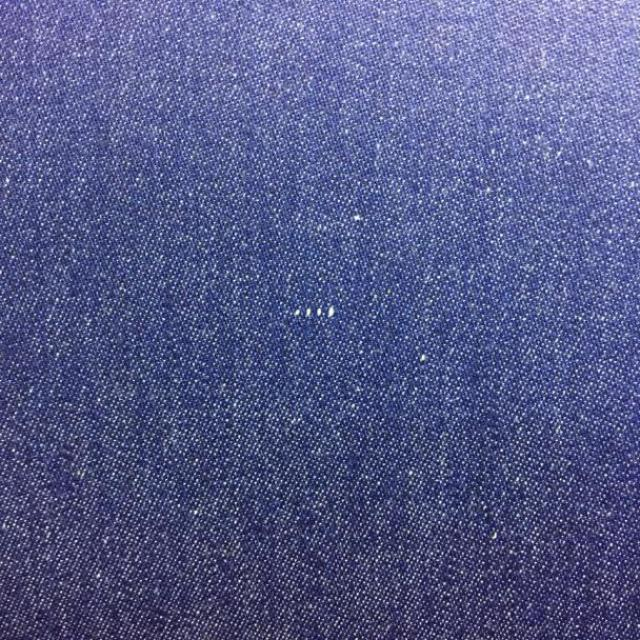Knot: (289, 305, 338, 319)
